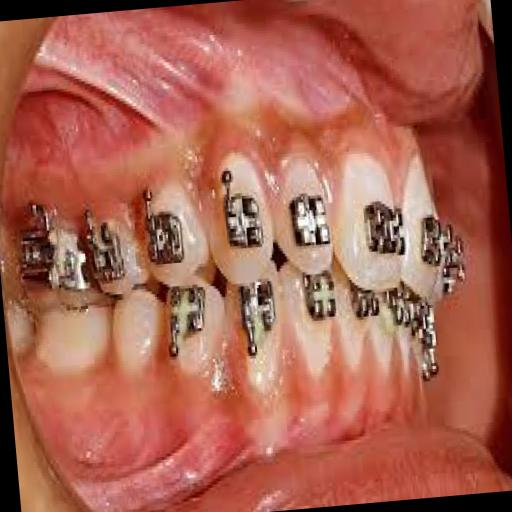correct_brace: (140, 172, 212, 288), (164, 286, 232, 398), (217, 164, 267, 254), (358, 192, 408, 262), (286, 188, 332, 250), (168, 287, 210, 337)
incorrect_brace: (268, 142, 338, 276), (146, 207, 186, 270)
